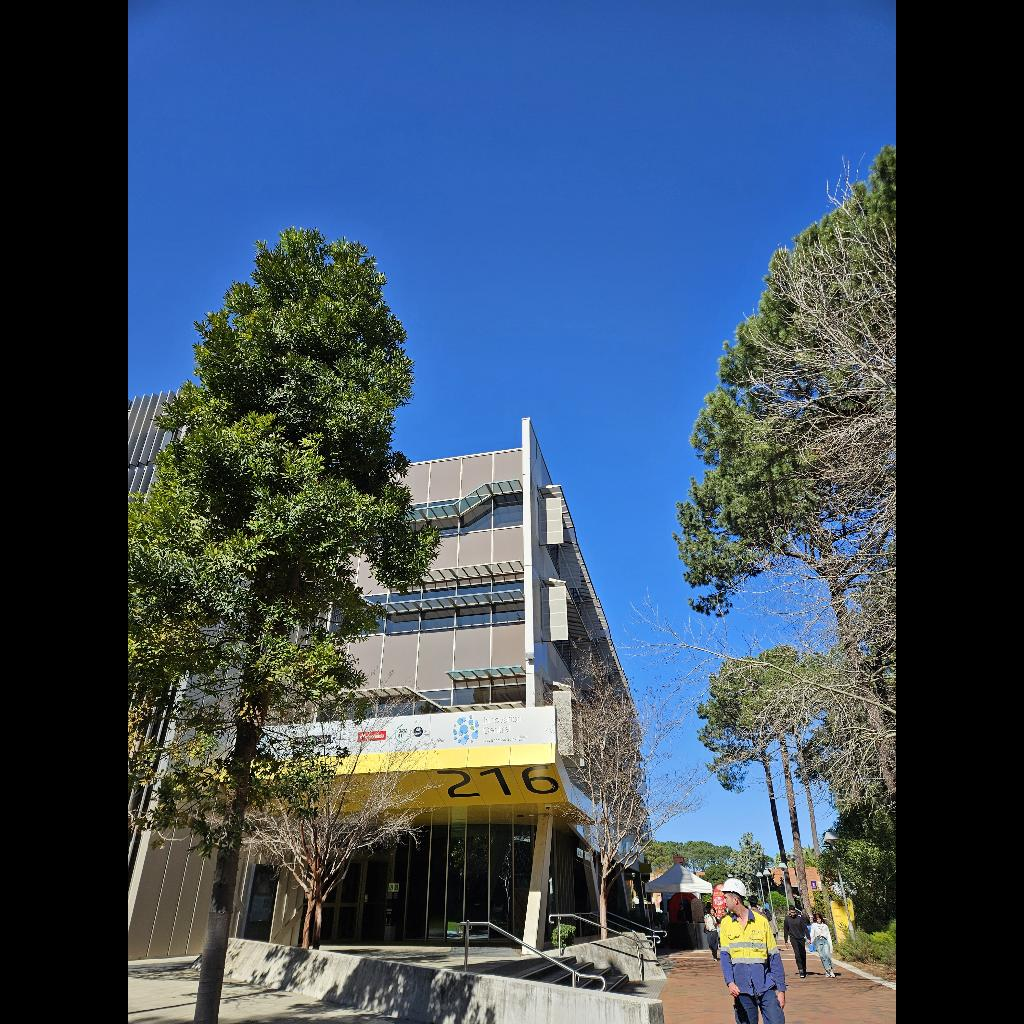BuildingCodes: (436, 763, 560, 799)
